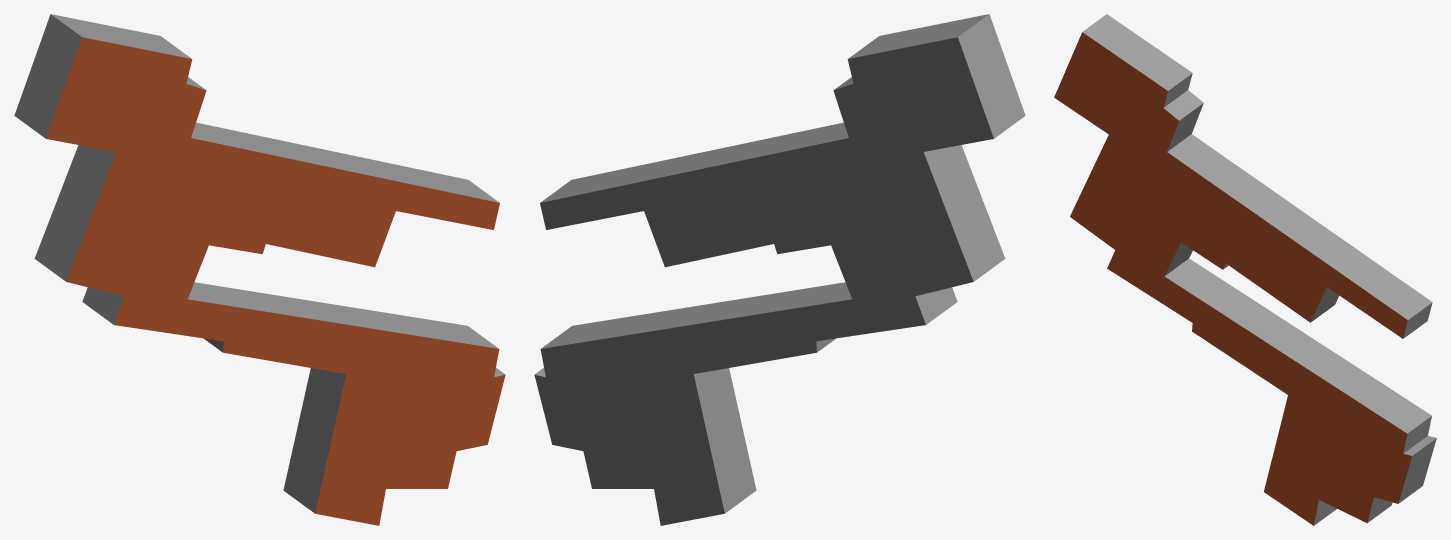
File: construction_2052_assumed_A_Casa_h6m.obj
3 renders of one model, left to right at view 1: azimuth 30°, elevation 25°; view 2: azimuth 150°, elevation 25°; view 3: azimuth 330°, elevation 25°, orthographic. The views are drawn at different scales.
Parts seen in each view (by area): view 1: construction_2052_assumed_A_Casa; view 2: construction_2052_assumed_A_Casa; view 3: construction_2052_assumed_A_Casa.
Part boxes in pixels (box(x1,y1,x2,y2)): construction_2052_assumed_A_Casa: box(14, 14, 505, 525); construction_2052_assumed_A_Casa: box(534, 14, 1025, 525); construction_2052_assumed_A_Casa: box(1054, 14, 1436, 525).
Bounding box in the file's own units: 50.3 × 58.69 × 6.
